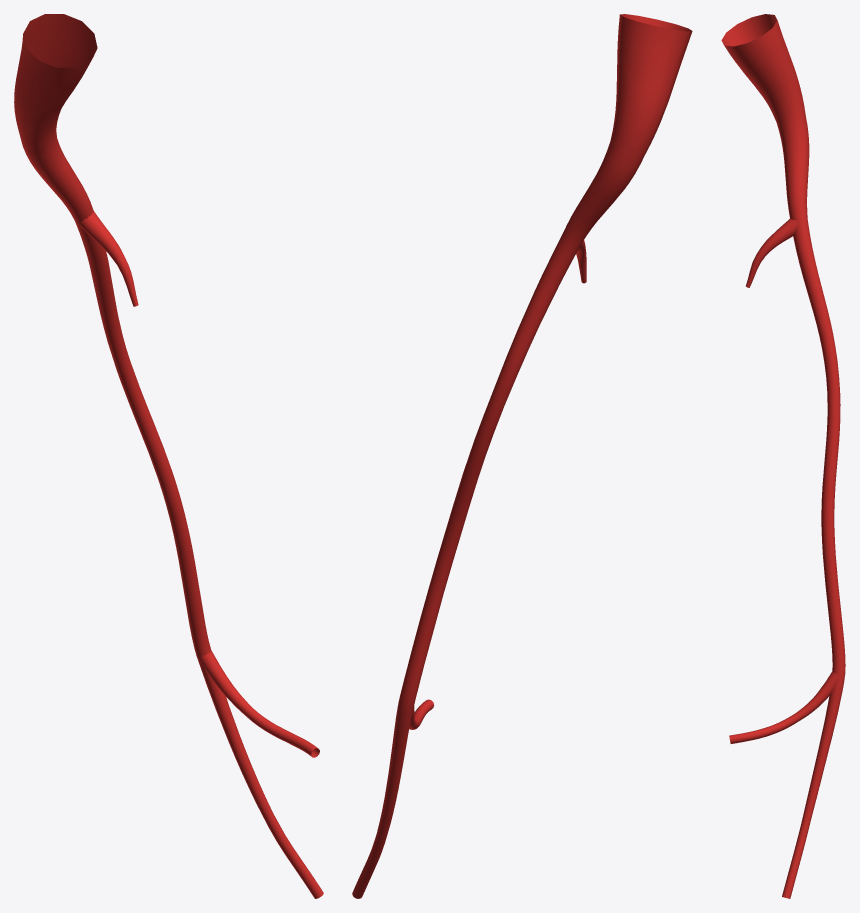
The model's file is circulatorio-mylohyoid-branch-of-inferior-alveolar-artery-r.glb.
The picture shows the model from 3 angles, left to right: view 1: azimuth 30°, elevation 25°; view 2: azimuth 150°, elevation 25°; view 3: azimuth 270°, elevation 25°; orthographic projection. The views are drawn at different scales.
Parts seen in each view (by area): view 1: Mylohyoid branch of inferior alveolar artery.r; view 2: Mylohyoid branch of inferior alveolar artery.r; view 3: Mylohyoid branch of inferior alveolar artery.r.
Boxes of the visible parts, x1=… form: Mylohyoid branch of inferior alveolar artery.r: x1=14, y1=14, x2=323, y2=898; Mylohyoid branch of inferior alveolar artery.r: x1=352, y1=14, x2=692, y2=898; Mylohyoid branch of inferior alveolar artery.r: x1=721, y1=14, x2=845, y2=898.
Bounding box in the file's own units: 0.00678 × 0.0194 × 0.00284.
